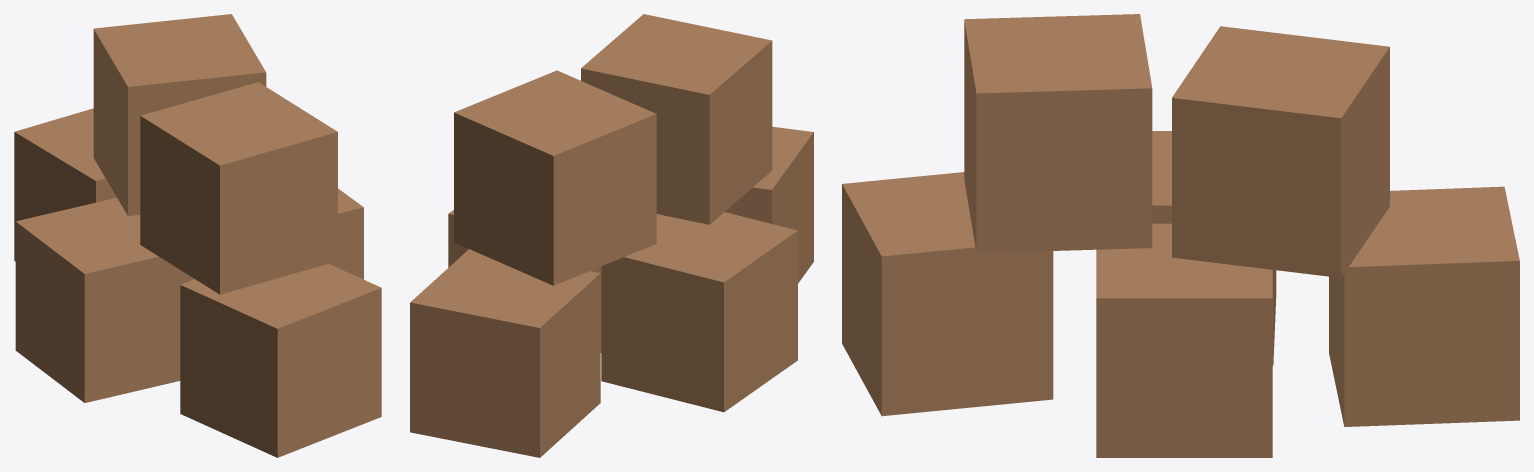
Rendered from boxes-small.glb.
3 renders of one model, left to right at view 1: azimuth 30°, elevation 25°; view 2: azimuth 150°, elevation 25°; view 3: azimuth 270°, elevation 25°, orthographic. The views are drawn at different scales.
Parts seen in each view (by area): view 1: Boxes; view 2: Boxes; view 3: Boxes.
Part boxes in pixels (x1,y1,x2,y2): Boxes: [14, 14, 381, 457]; Boxes: [410, 14, 813, 457]; Boxes: [842, 14, 1519, 457].
Bounding box in the file's own units: 1.17 × 1.04 × 2.
1 material, 1 textured.
